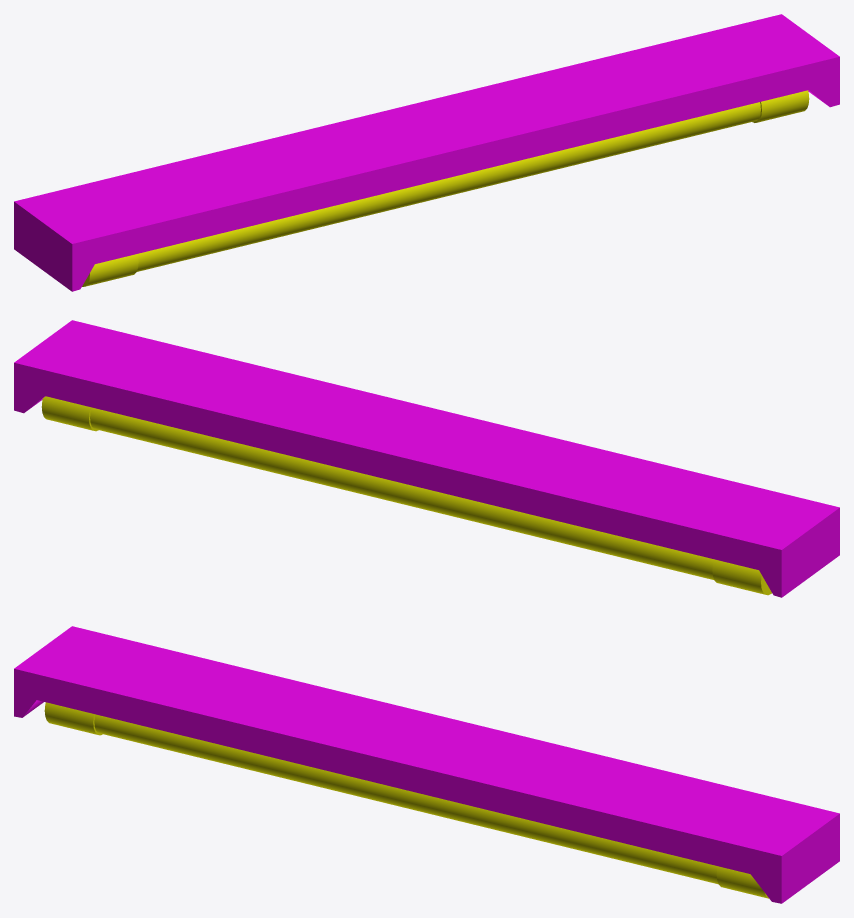
The model's file is LampadaV1.fbx.
3 views of the same model, one above another, from view 1: azimuth 30°, elevation 25°; view 2: azimuth 150°, elevation 25°; view 3: azimuth 330°, elevation 25° (orthographic).
Visible parts, largest first — view 1: pCylinder4; view 2: pCylinder4; view 3: pCylinder4.
Part boxes in pixels (x1,y1,x2,y2): pCylinder4: (14, 14, 839, 291); pCylinder4: (14, 320, 839, 597); pCylinder4: (14, 626, 839, 903).
Size of the model in its own units: 9.86 by 0.7352 by 1.29.
